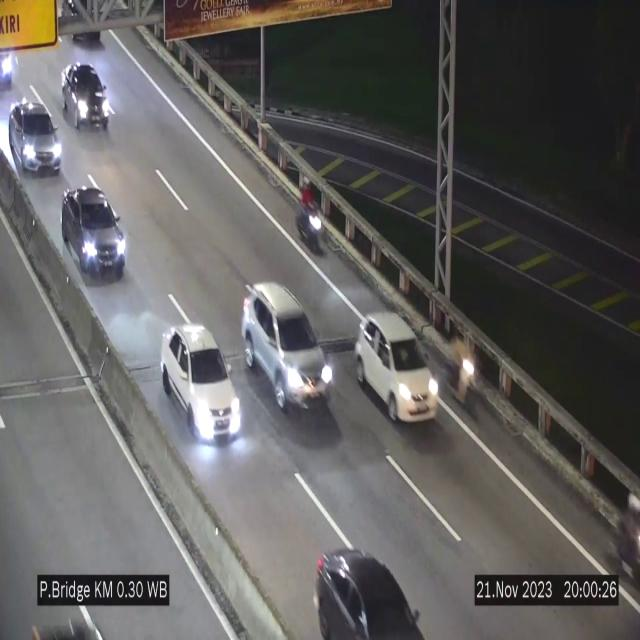Car: (305, 530, 447, 640), (242, 282, 334, 410), (354, 313, 441, 422), (161, 326, 243, 438), (61, 186, 127, 275), (8, 100, 62, 173), (63, 61, 111, 130)
Motorcycle: (600, 484, 640, 586), (454, 334, 486, 428), (296, 175, 324, 256)
